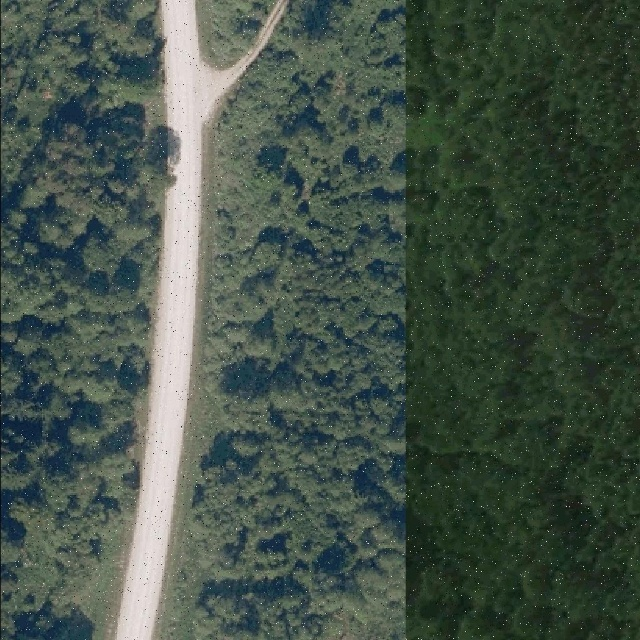vegetation: (163, 2, 640, 638), (0, 4, 165, 639), (199, 0, 276, 68)
